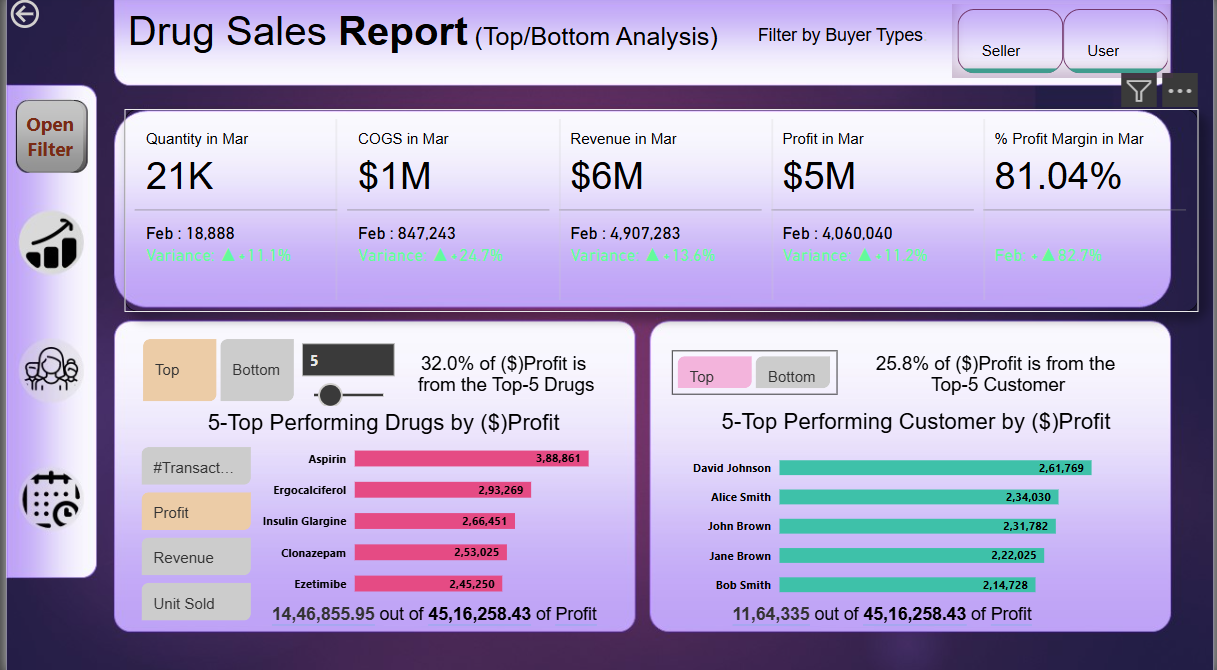

What the dashboard file says about the page in this screenshot:
{"tool":"powerbi","page":{"name":"Top","canvas":[1280,720],"ordinal":1},"visuals":[{"type":"textbox","box":[124.1,8,668.1,81.1],"z":0},{"type":"actionButton","title":"Open","box":[11.9,110.5,71.4,79.6],"z":0,"group":"g1"},{"type":"cardVisual","fields":{"Data":["Calculations.Quantity Sold","Calculations.Total COGS","Calculations.Total Revenue","Calculations.Profit","Calculations.% Profit Margin"]},"box":[125.7,120.9,1138.9,214.7],"z":1000},{"type":"slicer","fields":{"Values":["Top/Bottom.Top/Bottom"]},"box":[301.2,359.5,122.6,75],"z":2000},{"type":"clusteredBarChart","fields":{"Y":["Calculations.Drug Dynamic Top"],"Category":["DrugLookup.DrugName"]},"box":[265.6,456.5,405.6,195.6],"z":3000},{"type":"actionButton","box":[0,0,100,40],"z":4000},{"type":"advancedSlicerVisual","fields":{"Values":["Switch Drug Top/Bottom.Switch Drug Top/Bottom"]},"box":[139.3,359.5,170.2,76.2],"z":5000},{"type":"advancedSlicerVisual","fields":{"Values":["Active Measure.Active Measure"]},"box":[139,473.4,126.2,196.2],"z":6000},{"type":"card","fields":{"Values":["Active Measure.Title : Drugs"]},"box":[139,435,531,38.4],"z":7000},{"type":"card","fields":{"Values":["Active Measure.Caption: Drug"]},"box":[423.8,369,214.3,65.5],"z":8000},{"type":"textbox","box":[276.8,641,380.2,44.5],"z":9000},{"type":"clusteredBarChart","fields":{"Y":["Active Measure.Customer Dynamic Top"],"Category":["CustomerTable.Full Name"]},"box":[722.1,467.6,489.9,184.5],"z":10000},{"type":"advancedSlicerVisual","fields":{"Values":["Switch Customer Top/Bottom.Switch Customer Top/Bottom"]},"box":[706,376.2,175,46.4],"z":11000},{"type":"card","fields":{"Values":["Active Measure.Title : Customer"]},"box":[703.6,432.5,531,38.4],"z":12000},{"type":"card","fields":{"Values":["Active Measure.Caption: Customer"]},"box":[881,369,341.7,65.5],"z":13000},{"type":"textbox","box":[765.1,641,377,44.5],"z":14000},{"type":"group","id":"g1","title":"OpenClose","box":[11.9,110.5,71.4,79.6],"z":16000},{"type":"textbox","box":[791.5,27.4,200,36.9],"z":17000},{"type":"advancedSlicerVisual","fields":{"Values":["FactTable.BuyerType"]},"box":[1003.4,9.1,233.3,78.6],"z":18000},{"type":"actionButton","box":[9.5,498.8,78.6,72.6],"z":19000},{"type":"actionButton","box":[8.3,363.1,78.6,72.6],"z":20000}]}

Visuals, with their boxes in screenshot pixels (x1, y1, x2, y2), scaled from the page's 1280x720 canvas onto the 1217x670 screenshot:
textbox: x1=118 y1=7 x2=753 y2=83
"Open" actionButton: x1=11 y1=103 x2=79 y2=177
cardVisual - Calculations.Quantity Sold x Calculations.Total COGS: x1=120 y1=113 x2=1202 y2=312
slicer - Top/Bottom.Top/Bottom: x1=286 y1=335 x2=403 y2=404
clusteredBarChart - Calculations.Drug Dynamic Top x DrugLookup.DrugName: x1=253 y1=425 x2=638 y2=607
actionButton: x1=0 y1=0 x2=95 y2=37
advancedSlicerVisual - Switch Drug Top/Bottom.Switch Drug Top/Bottom: x1=132 y1=335 x2=294 y2=405
advancedSlicerVisual - Active Measure.Active Measure: x1=132 y1=441 x2=252 y2=623
card - Active Measure.Title : Drugs: x1=132 y1=405 x2=637 y2=441
card - Active Measure.Caption: Drug: x1=403 y1=343 x2=607 y2=404
textbox: x1=263 y1=596 x2=625 y2=638
clusteredBarChart - Active Measure.Customer Dynamic Top x CustomerTable.Full Name: x1=687 y1=435 x2=1152 y2=607
advancedSlicerVisual - Switch Customer Top/Bottom.Switch Customer Top/Bottom: x1=671 y1=350 x2=838 y2=393
card - Active Measure.Title : Customer: x1=669 y1=402 x2=1174 y2=438
card - Active Measure.Caption: Customer: x1=838 y1=343 x2=1163 y2=404
textbox: x1=727 y1=596 x2=1086 y2=638
"OpenClose" group: x1=11 y1=103 x2=79 y2=177
textbox: x1=753 y1=25 x2=943 y2=60
advancedSlicerVisual - FactTable.BuyerType: x1=954 y1=8 x2=1176 y2=82
actionButton: x1=9 y1=464 x2=84 y2=532
actionButton: x1=8 y1=338 x2=83 y2=405
